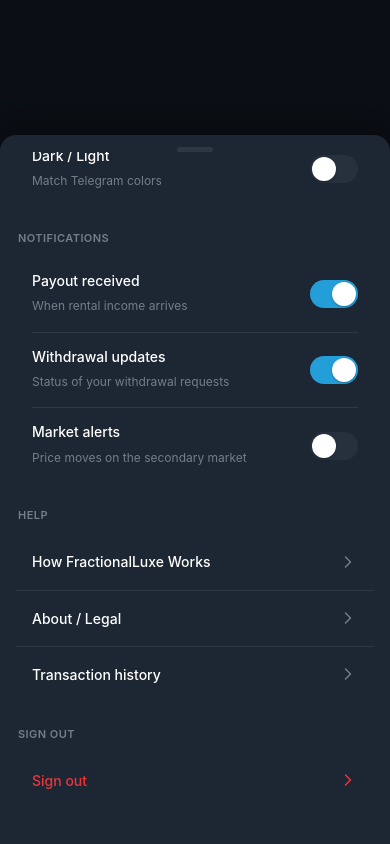
Test case: SettingsSheet › Sign out cancel closes confirmation without signing out
The image size is (390, 844).
(page scrolled)
Click the button with test id "settings-sign-out": click(60, 780) [16,752,374,808]
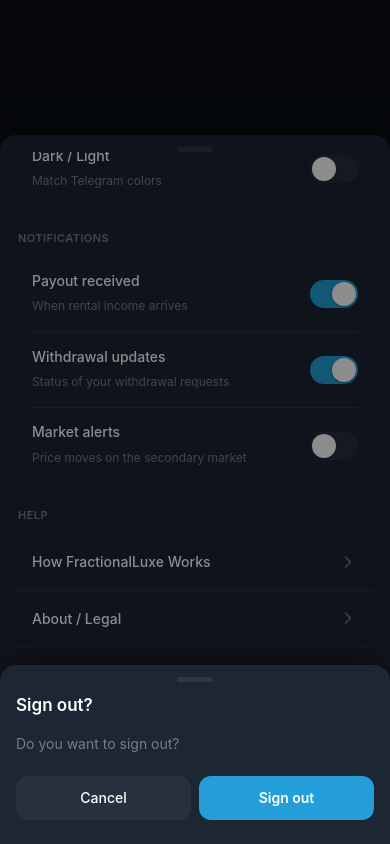
Click the button with test id "sign-out-confirm-cancel": click(104, 798) [16,776,191,820]
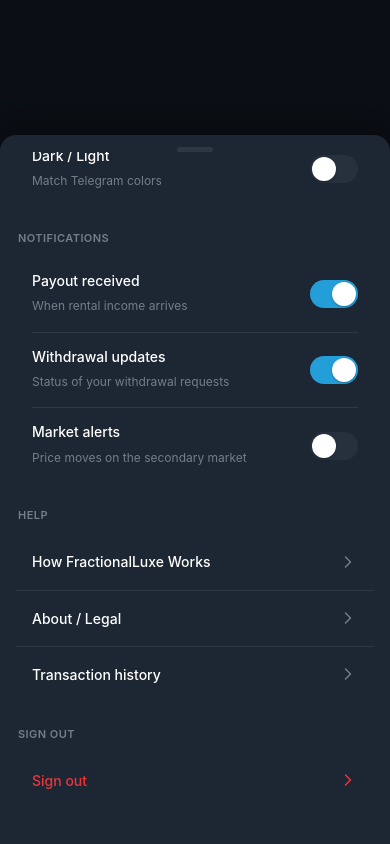
Expected: the element with test id "sign-out-confirm" is gone
